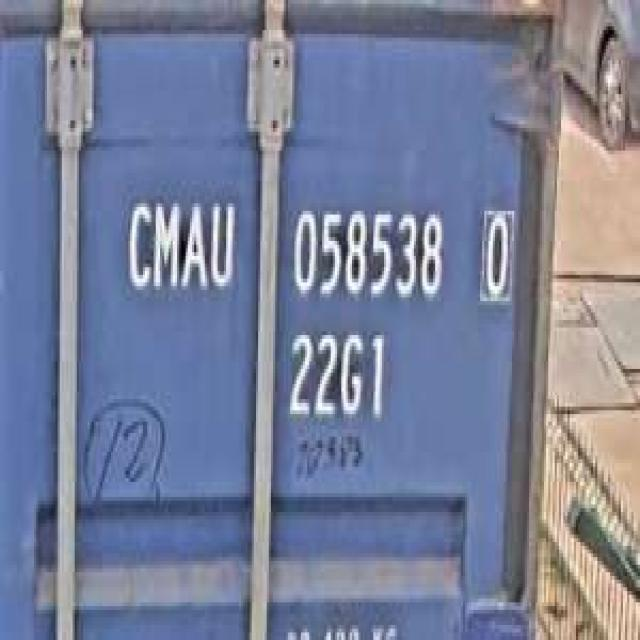dv: (476, 195, 516, 308)
owner: (121, 185, 236, 301)
serial: (284, 196, 448, 305)
size: (282, 320, 391, 425)
